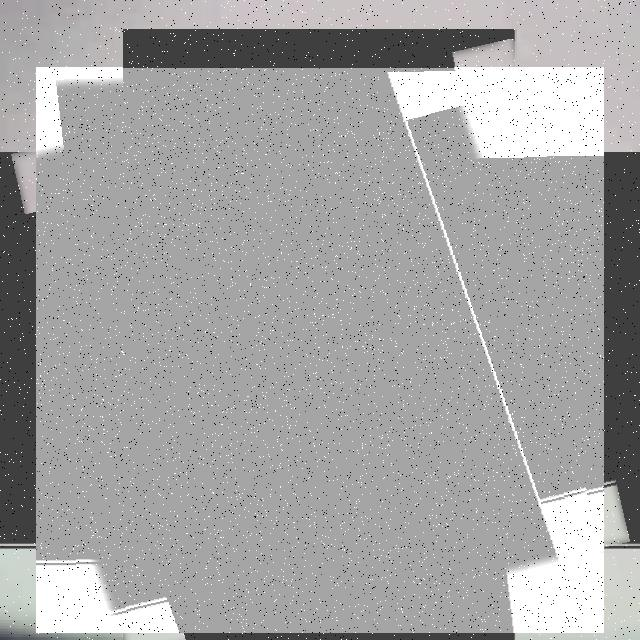dua ribu rupiah: (36, 65, 604, 632)
